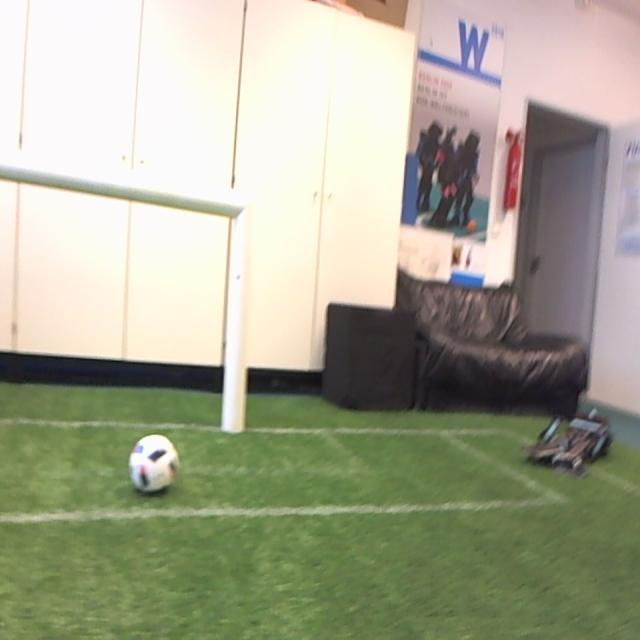ball: (127, 433, 179, 494)
goalpost: (220, 199, 256, 431)
